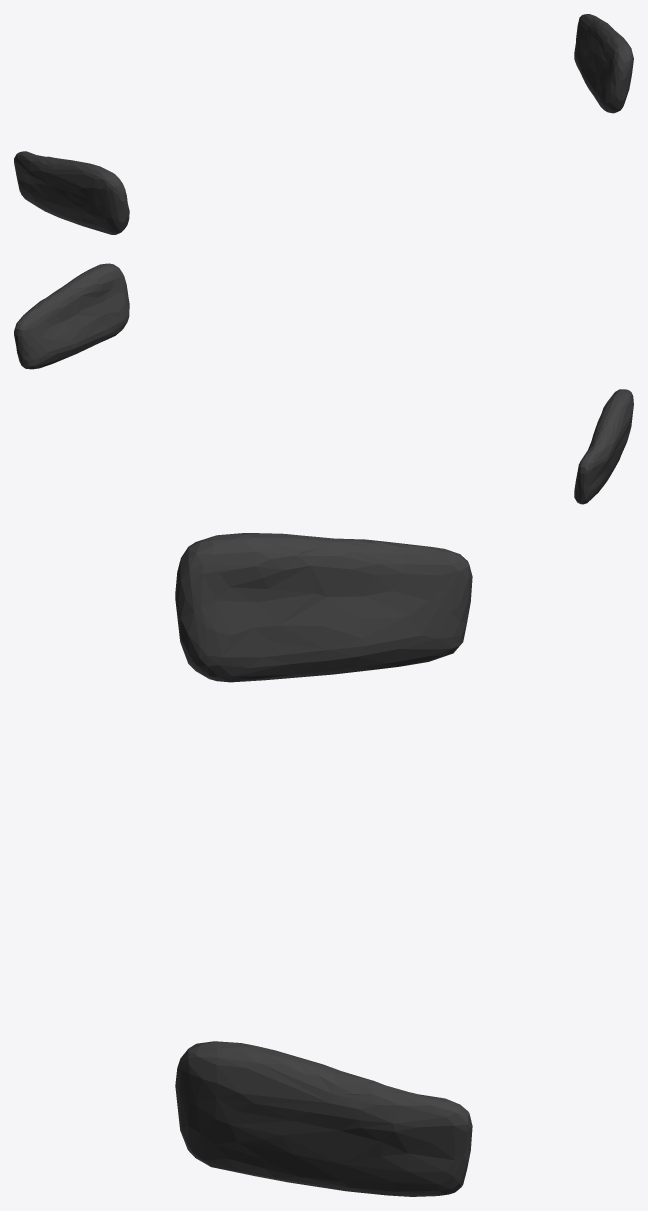
Rendered from m_retractor_anguli_oculi_lateralis.glb.
3 views of the same model, one above another, from view 1: azimuth 30°, elevation 25°; view 2: azimuth 150°, elevation 25°; view 3: azimuth 270°, elevation 25° (orthographic). The views are drawn at different scales.
Parts seen in each view (by area): view 1: m_retractor_anguli_oculi_lateralis; view 2: m_retractor_anguli_oculi_lateralis; view 3: m_retractor_anguli_oculi_lateralis.
Boxes of the visible parts, x1=… form: m_retractor_anguli_oculi_lateralis: x1=14, y1=14, x2=633, y2=234; m_retractor_anguli_oculi_lateralis: x1=14, y1=263, x2=633, y2=504; m_retractor_anguli_oculi_lateralis: x1=175, y1=533, x2=472, y2=1196.
Bounding box in the file's own units: 0.00262 × 0.000301 × 0.000584.
Materials: 1 (1 with a texture image).
